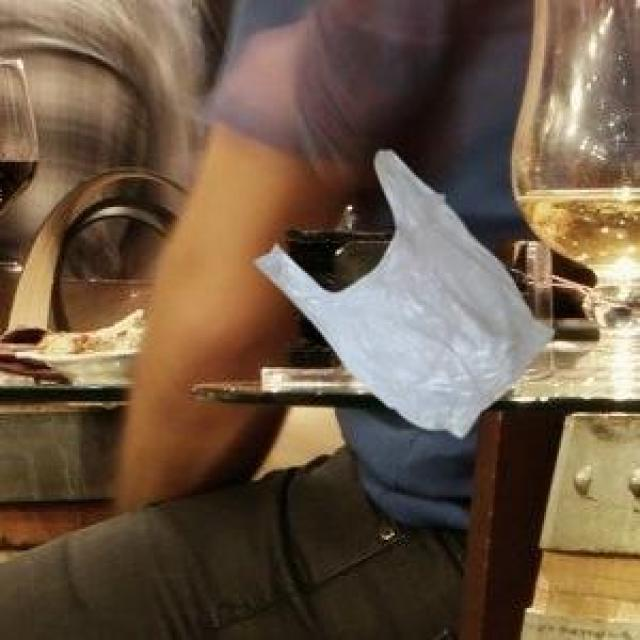waste: (255, 150, 551, 437)
